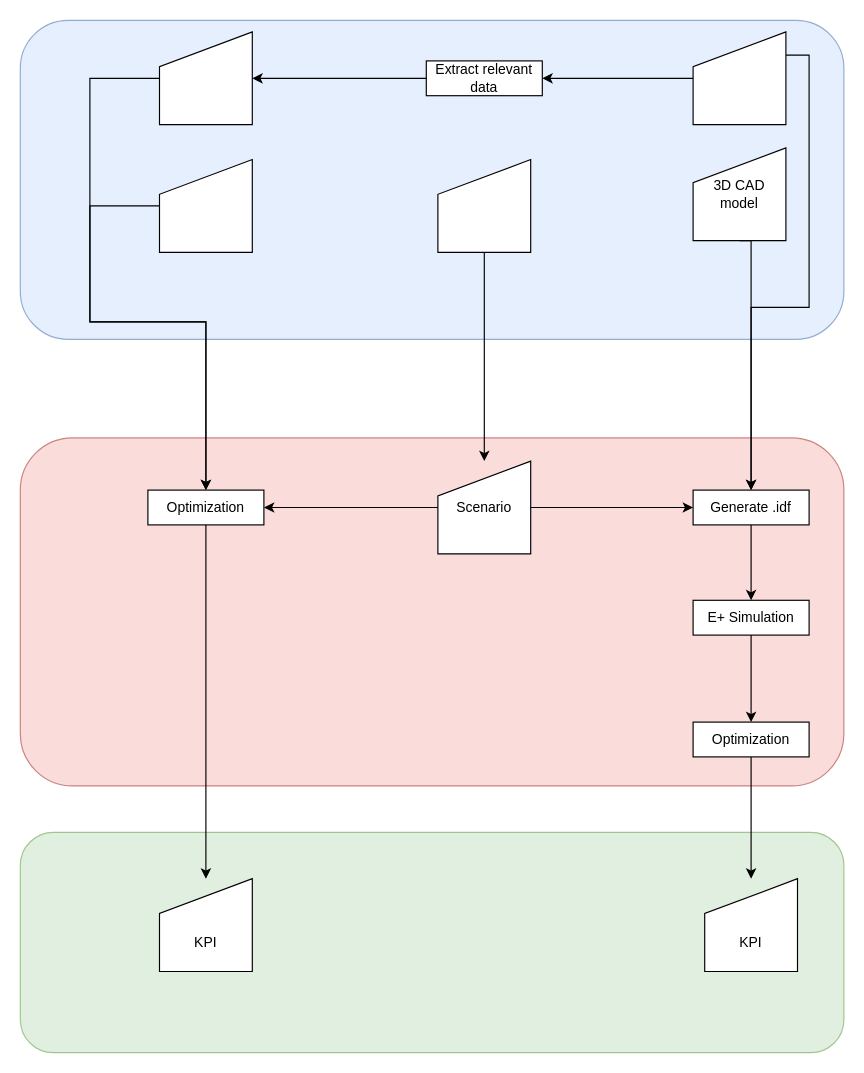
Some shapes in this 864 by 1073 pixel diagram are drawn without their labels. The box of each missing label's shape, as (x1, y1, x2, y2) in pixels:
buildings.csv U_th, Q_heating, ...: (158, 158, 252, 252)
Technology portfolio Energy tariff: (437, 158, 531, 252)
Weather situation .epw: (692, 31, 786, 125)
weather.csv: (158, 31, 252, 125)
